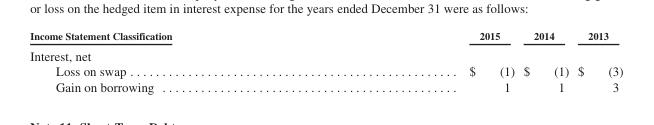table: (29, 29, 622, 93)
table column: (29, 29, 319, 93), (319, 29, 518, 93), (518, 29, 572, 93), (572, 29, 622, 93)
table column header: (29, 29, 622, 44)
table projected row header: (29, 44, 622, 63)
table row: (29, 44, 622, 63), (29, 29, 622, 44), (29, 63, 622, 78), (29, 78, 622, 93)
